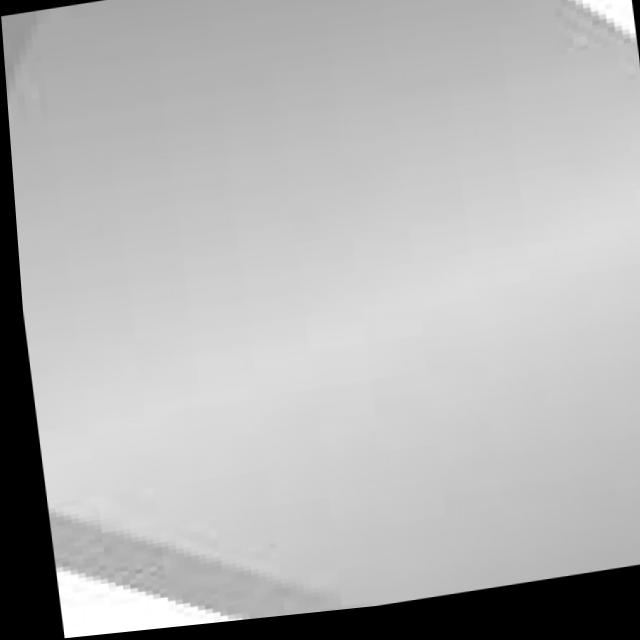metal-plates: (2, 1, 640, 627)
